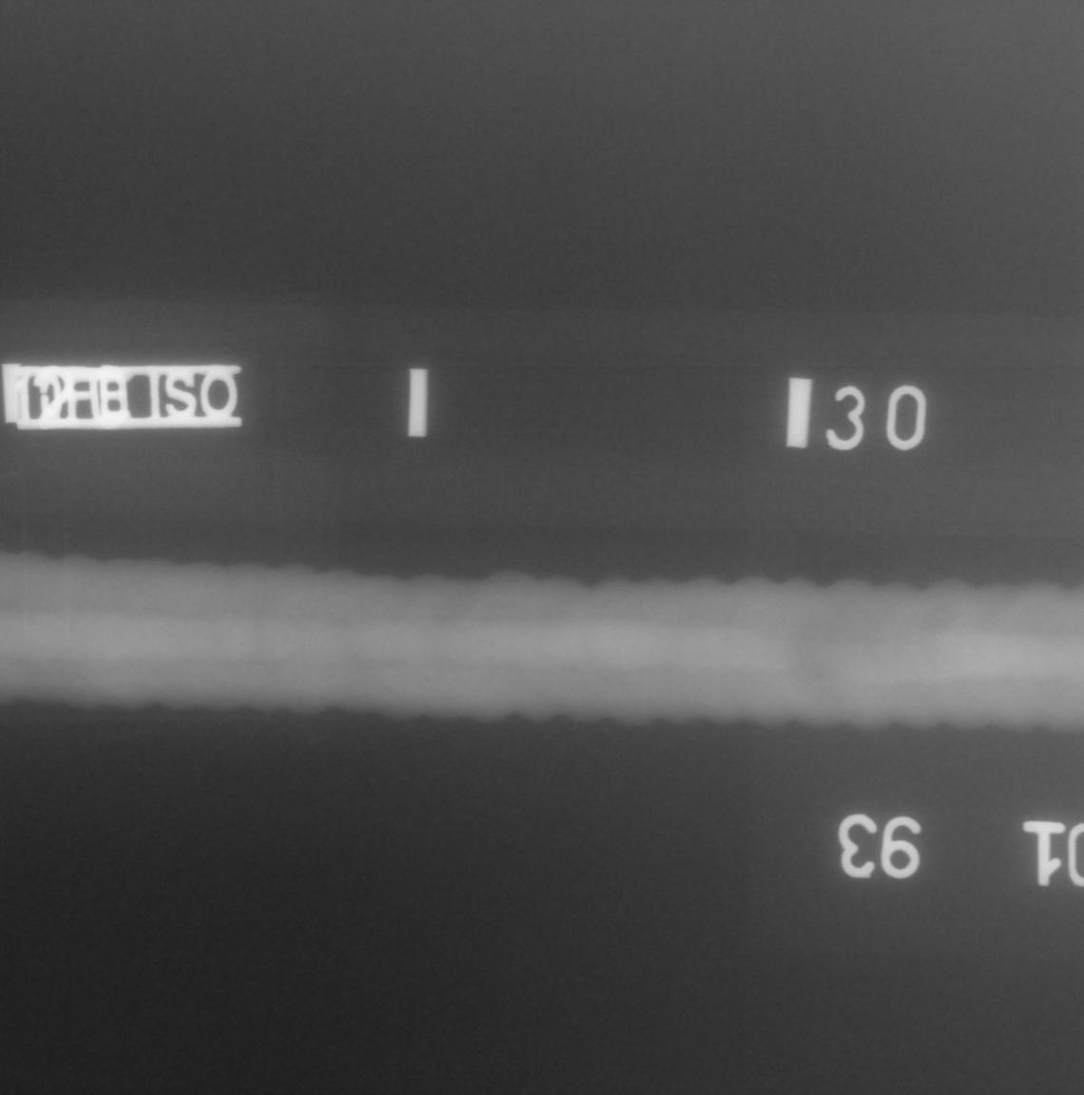Inclusion: (814, 673, 823, 678), (852, 684, 856, 690), (844, 665, 848, 671)
